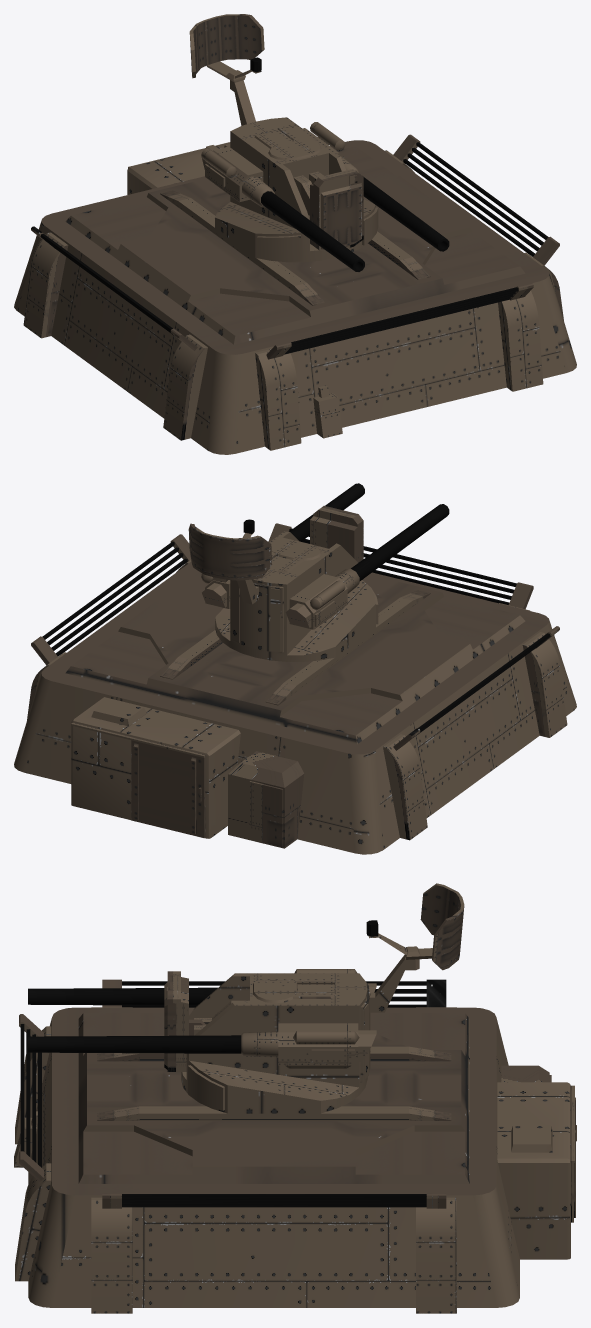
Rendered from Ground_Air_Turret_Level3 1.fbx.
3 views of the same model, one above another, from view 1: azimuth 30°, elevation 25°; view 2: azimuth 150°, elevation 25°; view 3: azimuth 270°, elevation 25° (orthographic). The views are drawn at different scales.
Parts seen in each view (by area): view 1: Base.002, Turret.002, SearchRadar, Radar.002, Breech3, Gun2.001, Gun1.001; view 2: Base.002, Turret.002, SearchRadar, Breech3, Radar.002, Gun2.001, Gun1.001; view 3: Base.002, Turret.002, Breech3, Gun1.001, SearchRadar, Gun2.001, Radar.002.
Part boxes in pixels (x1,y1,x2,y2): Base.002: [14, 134, 576, 454]; Turret.002: [215, 80, 378, 262]; SearchRadar: [189, 14, 264, 82]; Radar.002: [310, 169, 363, 252]; Breech3: [201, 122, 359, 207]; Gun2.001: [261, 191, 364, 271]; Gun1.001: [363, 176, 449, 251]; Base.002: [14, 523, 576, 854]; Turret.002: [215, 531, 378, 661]; SearchRadar: [188, 519, 272, 582]; Breech3: [201, 568, 359, 629]; Radar.002: [310, 505, 363, 580]; Gun2.001: [351, 504, 449, 581]; Gun1.001: [289, 483, 364, 541]; Base.002: [14, 979, 576, 1313]; Turret.002: [181, 955, 419, 1113]; Breech3: [241, 969, 376, 1068]; Gun1.001: [28, 1035, 241, 1053]; SearchRadar: [366, 883, 464, 970]; Gun2.001: [28, 987, 217, 1005]; Radar.002: [164, 971, 205, 1071].
Bounding box in the file's own units: 6.77 × 3.99 × 6.23.
